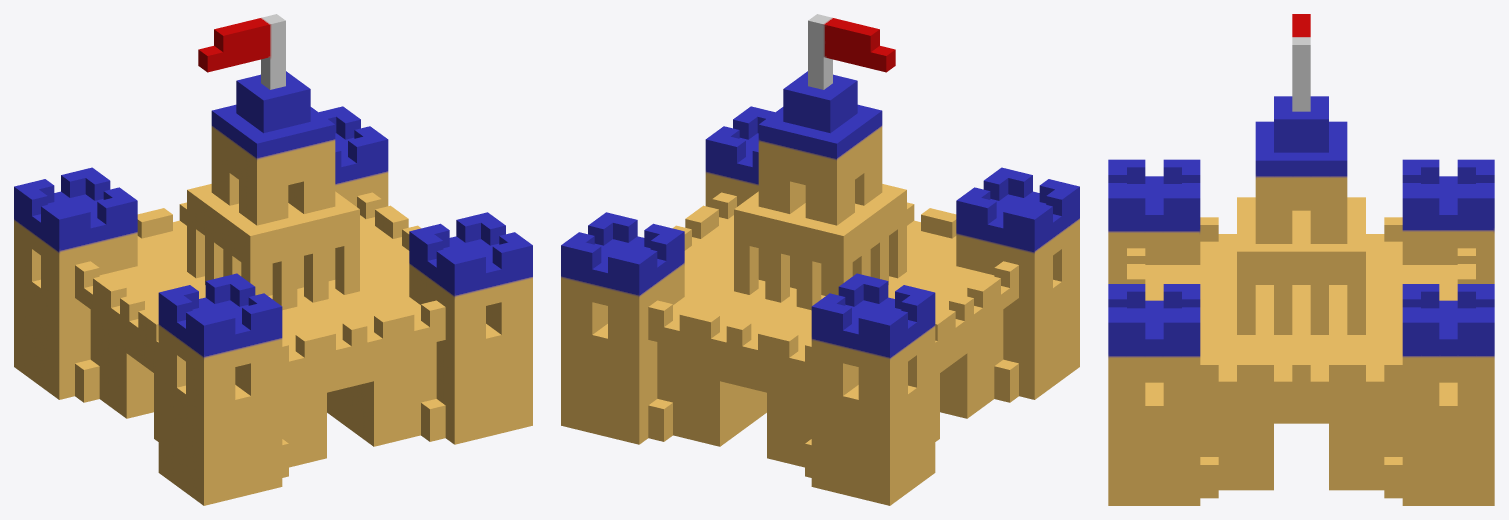
Rendered from Castle.fbx.
3 views of the same model, side by side, from view 1: azimuth 30°, elevation 25°; view 2: azimuth 150°, elevation 25°; view 3: azimuth 270°, elevation 25° (orthographic).
Parts seen in each view (by area): view 1: Castle; view 2: Castle; view 3: Castle.
Part boxes in pixels (x1,y1,x2,y2): Castle: [14, 14, 532, 505]; Castle: [561, 14, 1079, 505]; Castle: [1108, 14, 1494, 505].
Size of the model in its own units: 462 by 506 by 462.
1 material, 1 textured.
